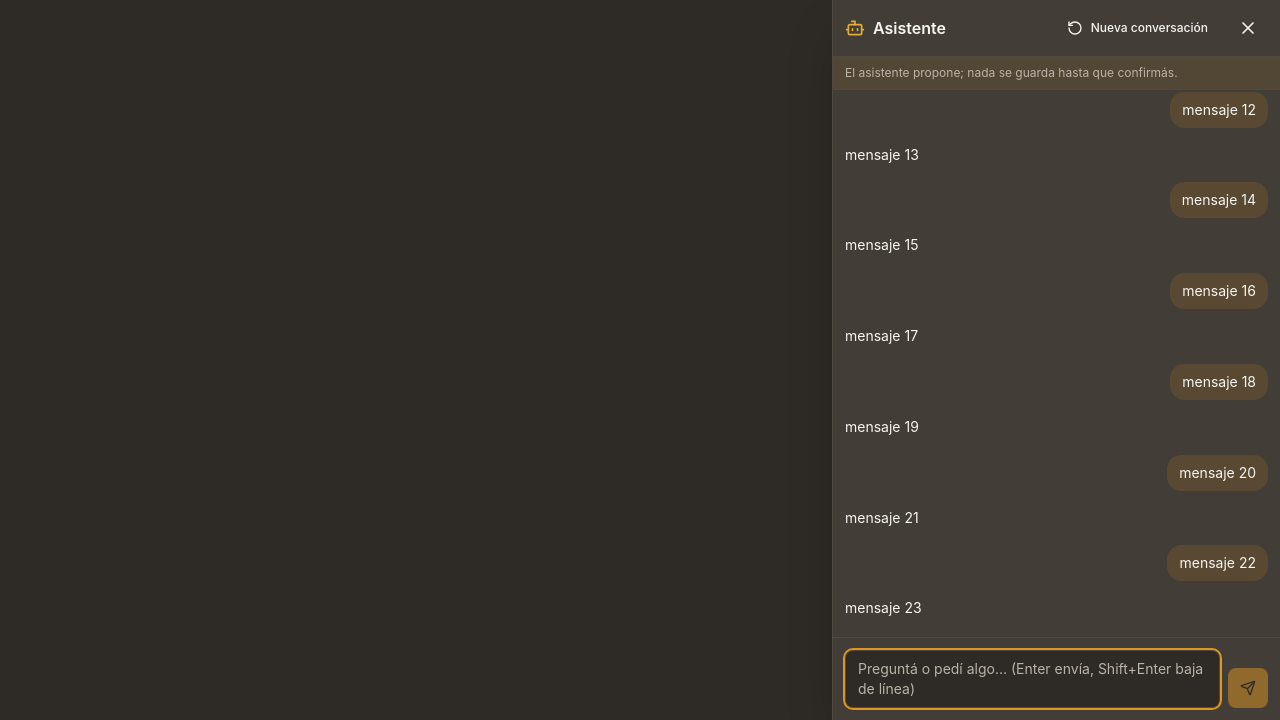
Test: panel del asistente › manda como mucho los últimos 20 mensajes
The width and height of the screenshot is (1280, 720).
(page scrolled)
Type "el nuevo" into the text box named "Mensaje para el asistente" at (1032, 679), box [845,650,1220,708]
Then press Enter
(page scrolled)
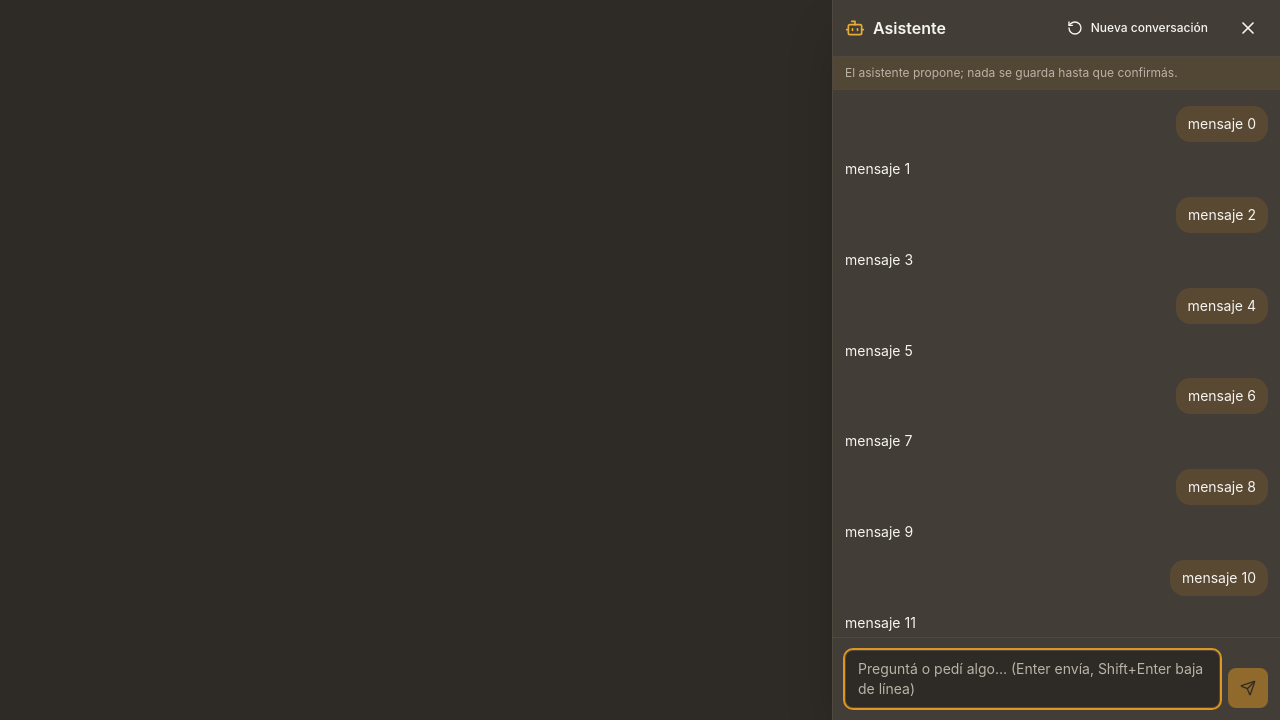
Expected: the text "mensaje 5" is shown, [845,342,913,358]
